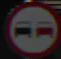No overtake: (4, 5, 55, 48)
